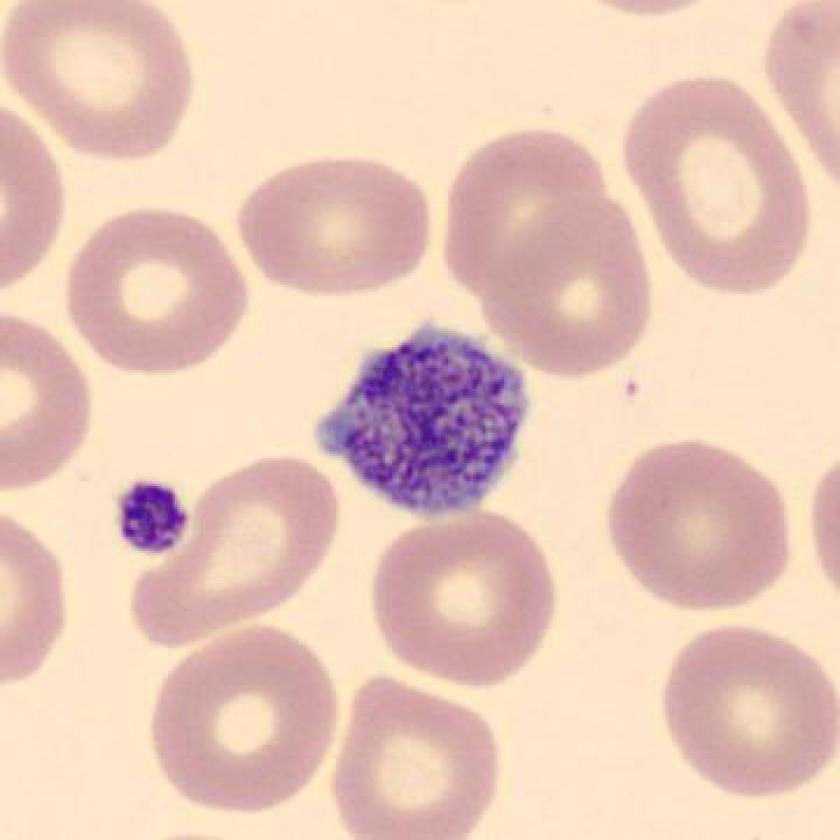platelets: (302, 314, 540, 534), (104, 466, 202, 573)
